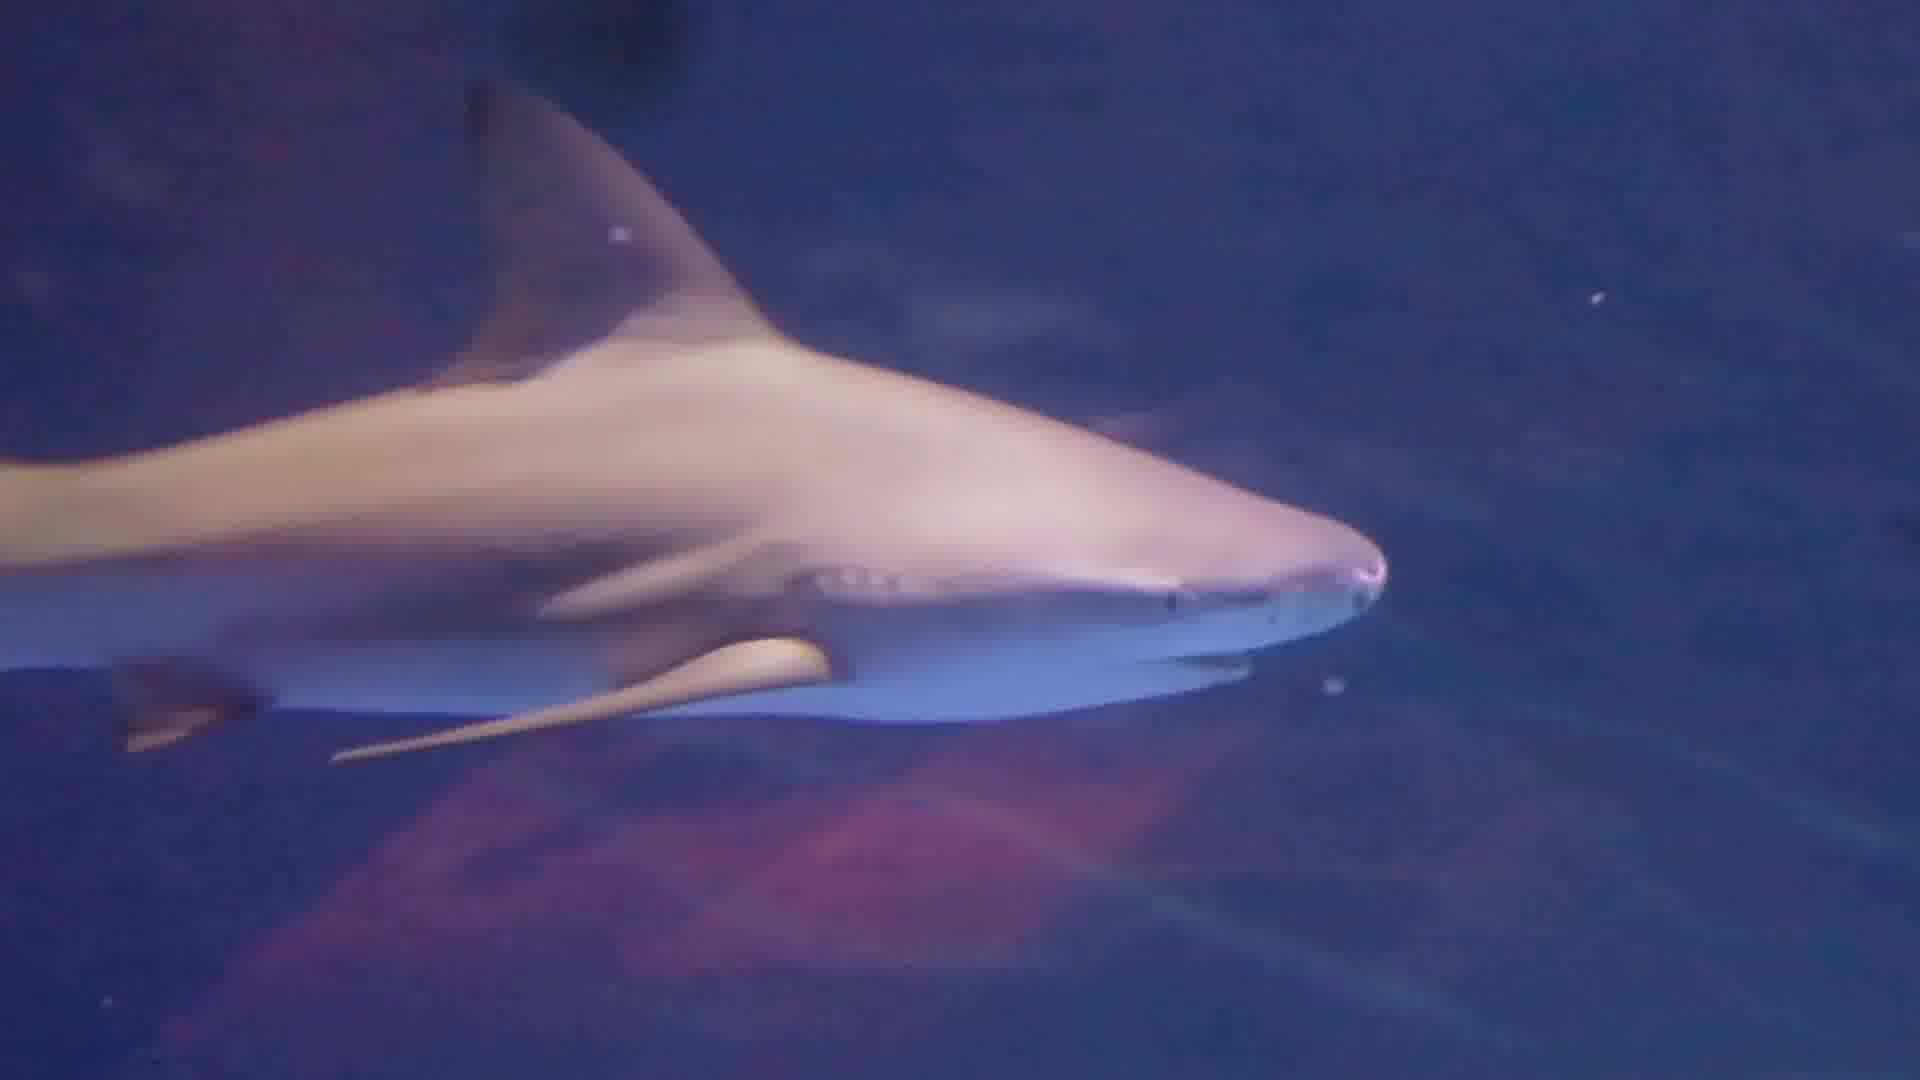Carcharhinus leucas: (1, 78, 1414, 791)
